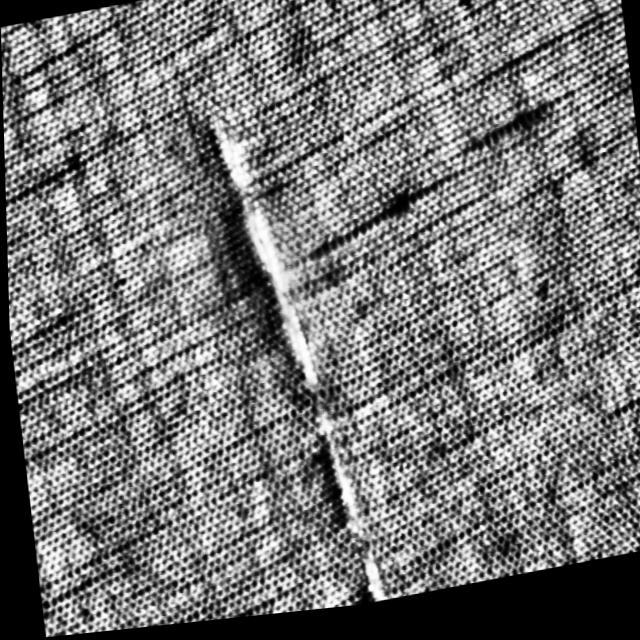Stitch: (201, 95, 379, 624)
